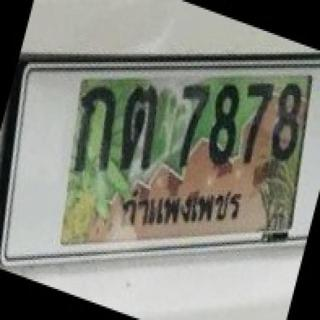A01: (72, 82, 119, 176)
A21: (118, 81, 160, 175)
N07: (176, 80, 210, 172), (242, 76, 272, 166)
N08: (208, 80, 241, 169), (273, 80, 302, 166)
P16: (118, 179, 245, 232)
